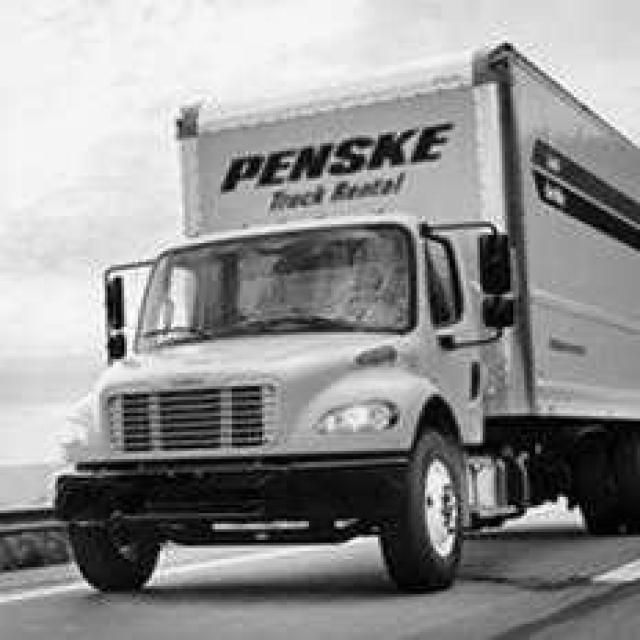Truck: (56, 44, 634, 589)
